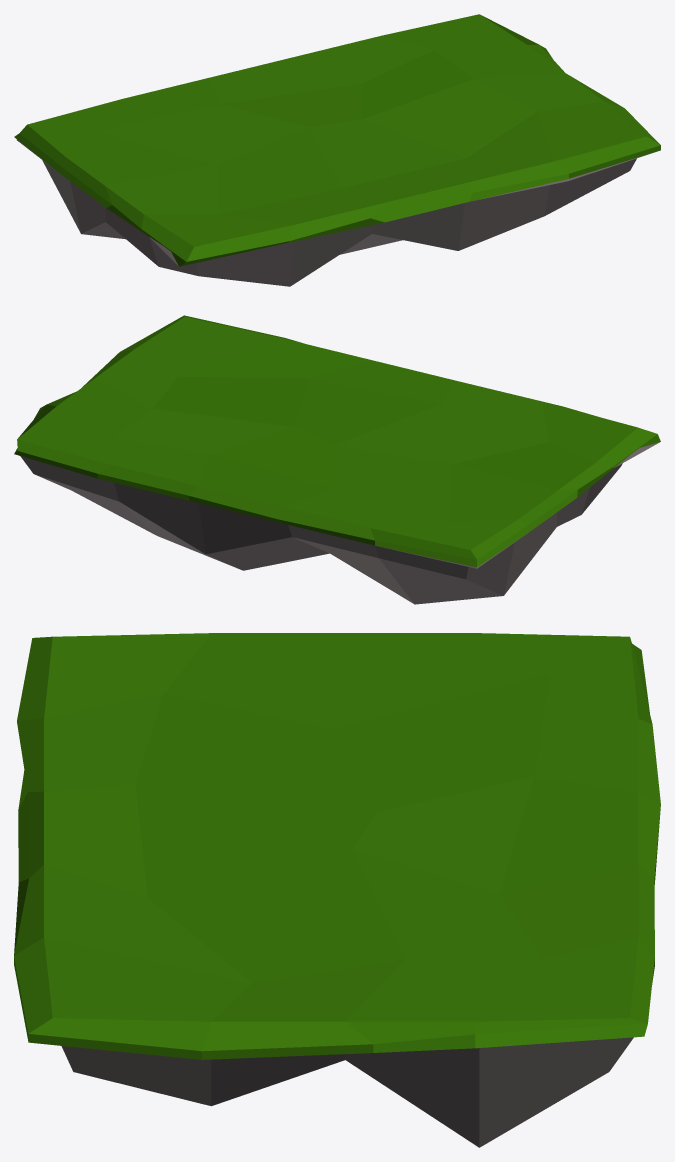
File: Island_01.fbx
The picture shows the model from 3 angles, top to bottom: view 1: azimuth 30°, elevation 25°; view 2: azimuth 150°, elevation 25°; view 3: azimuth 270°, elevation 25°; orthographic projection. The views are drawn at different scales.
Parts seen in each view (by area): view 1: Cube.001, Cube; view 2: Cube.001, Cube; view 3: Cube.001, Cube.
Boxes of the visible parts, box(x1,y1,x2,y2) form: Cube.001: box(14, 14, 660, 266); Cube: box(17, 139, 654, 286); Cube.001: box(14, 315, 660, 567); Cube: box(20, 442, 659, 604); Cube.001: box(14, 633, 660, 1059); Cube: box(61, 1037, 633, 1147).
Size of the model in its own units: 4234 by 1086 by 2785.
